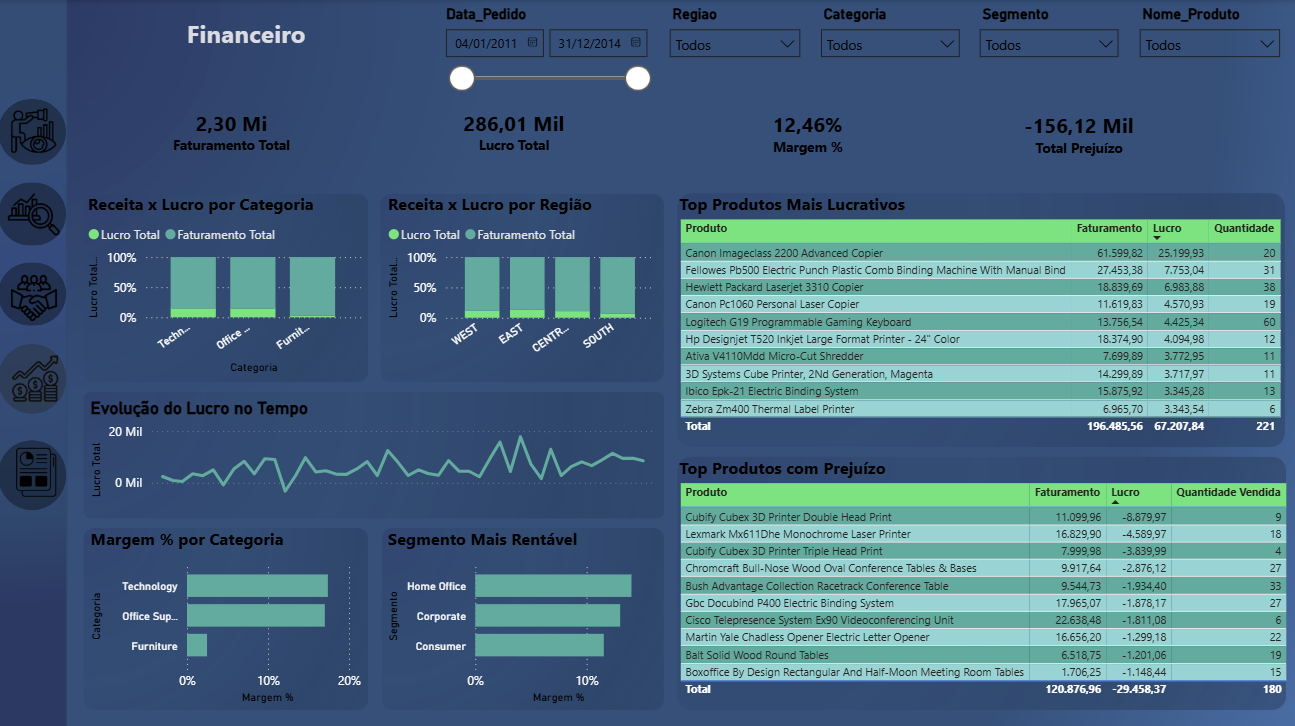

What the dashboard file says about the page in this screenshot:
{"tool":"powerbi","page":{"name":"Financeiro","canvas":[1280,720],"ordinal":3},"visuals":[{"type":"cardVisual","fields":{"Data":["Medidas.Faturamento Total"]},"box":[109.8,87.8,240.1,81],"z":0},{"type":"cardVisual","fields":{"Data":["Medidas.Lucro Total"]},"box":[387,87.8,240.1,81],"z":1000},{"type":"cardVisual","fields":{"Data":["Medidas.Margem %"]},"box":[675.1,89.2,240.1,81],"z":2000},{"type":"cardVisual","fields":{"Data":["Medidas.Total Prejuízo"]},"box":[941.3,90.6,240.1,81],"z":3000},{"type":"hundredPercentStackedColumnChart","title":"Receita x Lucro por Categoria","fields":{"Category":["dim_produto.Categoria"],"Y":["Medidas.Lucro Total","Medidas.Faturamento Total"]},"box":[83.7,189.4,278.6,182.5],"z":4000},{"type":"hundredPercentStackedColumnChart","title":"Receita x Lucro por Região","fields":{"Category":["dim_local.Regiao"],"Y":["Medidas.Lucro Total","Medidas.Faturamento Total"]},"box":[377.4,189.4,271.7,170.2],"z":5000},{"type":"clusteredBarChart","fields":{"Category":["dim_produto.Categoria"],"Y":["Medidas.Margem %"]},"box":[86.4,517.3,275.8,178.4],"z":6000},{"type":"tableEx","title":"Top Produtos com Prejuízo","fields":{"Values":["dim_produto.Nome_Produto","Medidas.Faturamento Total","Medidas.Lucro Total","Medidas.Qtd Vendida"]},"box":[664.2,447.3,616.1,248.4],"z":7000},{"type":"lineChart","title":"Evolução do Lucro no Tempo","fields":{"Category":["dim_data.Data_Pedido.Variation.Hierarquia de datas.Ano","dim_data.Data_Pedido.Variation.Hierarquia de datas.Mês"],"Y":["Medidas.Lucro Total"]},"box":[86.4,389.7,562.6,115.3],"z":8000},{"type":"tableEx","title":"Top Produtos Mais Lucrativos","fields":{"Values":["dim_produto.Nome_Produto","Medidas.Faturamento Total","Medidas.Lucro Total","Medidas.Qtd Vendida"]},"box":[664.2,189.4,605.1,249.7],"z":9000},{"type":"clusteredBarChart","title":"Segmento Mais Rentável","fields":{"Category":["dim_cliente.Segmento"],"Y":["Medidas.Margem %"]},"box":[377.4,517.3,271.7,178.4],"z":10000},{"type":"slicer","fields":{"Values":["dim_data.Data_Pedido"]},"box":[426.8,0,222.3,156.4],"z":11000},{"type":"slicer","fields":{"Values":["dim_local.Regiao"]},"box":[649.1,0,148.2,71.4],"z":12000},{"type":"slicer","fields":{"Values":["dim_produto.Categoria"]},"box":[797.3,0,156.4,65.9],"z":13000},{"type":"slicer","fields":{"Values":["dim_cliente.Segmento"]},"box":[953.7,0,156.4,65.9],"z":14000},{"type":"slicer","fields":{"Values":["dim_produto.Nome_Produto"]},"box":[1110.1,0,157.8,116.6],"z":15000},{"type":"textbox","box":[179.8,12.3,297.8,65.9],"z":16000},{"type":"pageNavigator","box":[0,97.4,67.2,65.9],"z":17000},{"type":"pageNavigator","box":[0,179,67,62],"z":18000},{"type":"pageNavigator","box":[0,257.1,67.1,62.9],"z":19000},{"type":"pageNavigator","box":[0,337,67,69],"z":20000},{"type":"pageNavigator","box":[0,431.4,67.9,69.3],"z":21000}]}

Visuals, with their boxes in screenshot pixels (x1, y1, x2, y2), scaled from the page's 1280x720 canvas onto the 1295x726 screenshot:
cardVisual - Medidas.Faturamento Total: x1=111, y1=89, x2=354, y2=170
cardVisual - Medidas.Lucro Total: x1=392, y1=89, x2=634, y2=170
cardVisual - Medidas.Margem %: x1=683, y1=90, x2=926, y2=172
cardVisual - Medidas.Total Prejuízo: x1=952, y1=91, x2=1195, y2=173
"Receita x Lucro por Categoria" hundredPercentStackedColumnChart: x1=85, y1=191, x2=367, y2=375
"Receita x Lucro por Região" hundredPercentStackedColumnChart: x1=382, y1=191, x2=657, y2=363
clusteredBarChart - dim_produto.Categoria x Medidas.Margem %: x1=87, y1=522, x2=366, y2=701
"Top Produtos com Prejuízo" tableEx: x1=672, y1=451, x2=1294, y2=701
"Evolução do Lucro no Tempo" lineChart: x1=87, y1=393, x2=657, y2=509
"Top Produtos Mais Lucrativos" tableEx: x1=672, y1=191, x2=1284, y2=443
"Segmento Mais Rentável" clusteredBarChart: x1=382, y1=522, x2=657, y2=701
slicer - dim_data.Data_Pedido: x1=432, y1=0, x2=657, y2=158
slicer - dim_local.Regiao: x1=657, y1=0, x2=807, y2=72
slicer - dim_produto.Categoria: x1=807, y1=0, x2=965, y2=66
slicer - dim_cliente.Segmento: x1=965, y1=0, x2=1123, y2=66
slicer - dim_produto.Nome_Produto: x1=1123, y1=0, x2=1283, y2=118
textbox: x1=182, y1=12, x2=483, y2=79
pageNavigator: x1=0, y1=98, x2=68, y2=165
pageNavigator: x1=0, y1=180, x2=68, y2=243
pageNavigator: x1=0, y1=259, x2=68, y2=323
pageNavigator: x1=0, y1=340, x2=68, y2=409
pageNavigator: x1=0, y1=435, x2=69, y2=505
